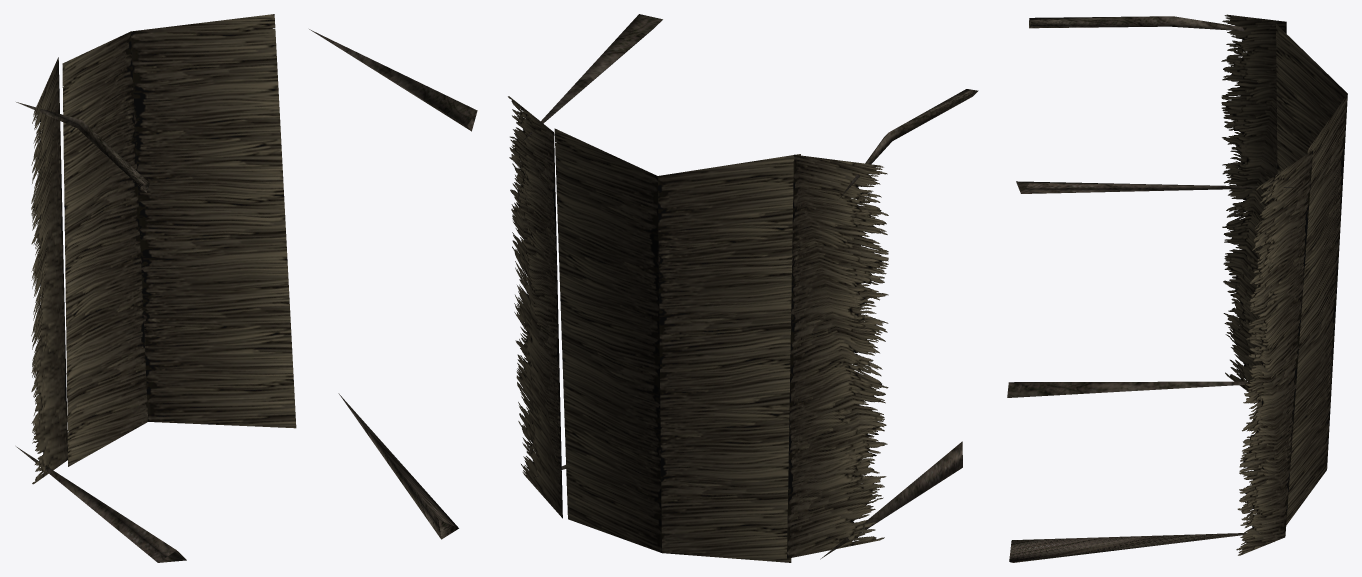
Rendered from MEP_Roof_02_LOD_02.fbx.
3 renders of one model, left to right at view 1: azimuth 30°, elevation 25°; view 2: azimuth 150°, elevation 25°; view 3: azimuth 270°, elevation 25°, orthographic. The views are drawn at different scales.
Parts seen in each view (by area): view 1: MEP_Roof_02_LOD_02; view 2: MEP_Roof_02_LOD_02; view 3: MEP_Roof_02_LOD_02.
Boxes of the visible parts, x1,y1,x2,y2 form: MEP_Roof_02_LOD_02: [16, 14, 477, 562]; MEP_Roof_02_LOD_02: [508, 14, 978, 562]; MEP_Roof_02_LOD_02: [1007, 14, 1347, 562].
Bounding box in the file's own units: 5.13 × 5.93 × 4.29.
